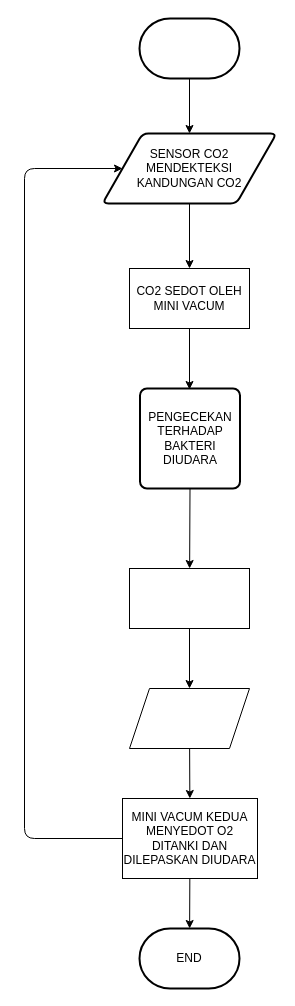
Image size: 295x1006. Some labels were removed from this diagram. The shapes that lost their labels are listed below. From the top down, each one's centre as x and y in pixels, then its label:
point (189, 48): START
point (189, 598): CO2 DIFILTER MENJADI O2 DITANGKI BERISI ALGAE
point (189, 718): SENSOR O2 MENDETEKSI ADANYA O2 DITANGKI
